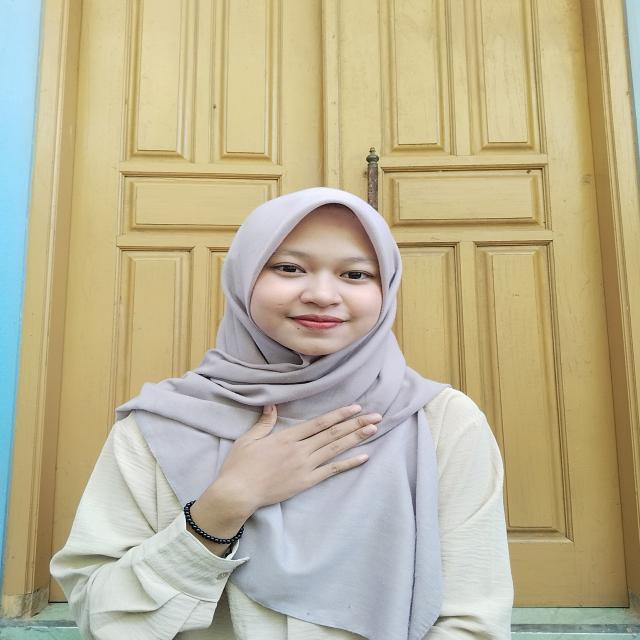tolong: (153, 401, 375, 529)
